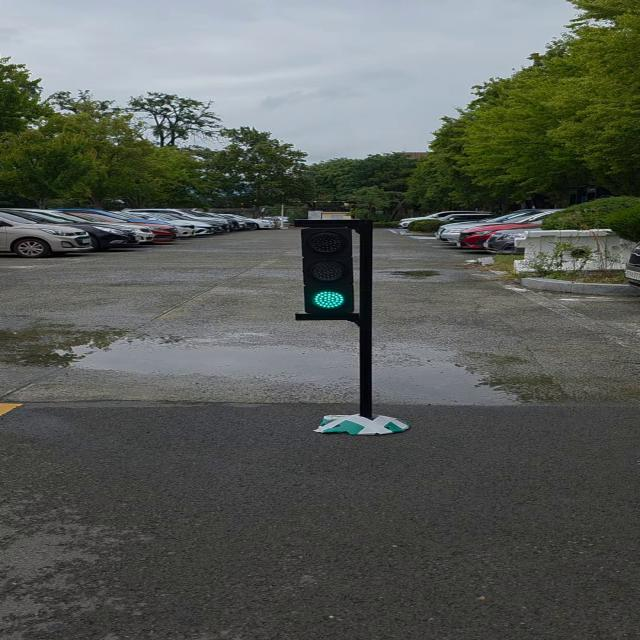green: (299, 226, 357, 320)
